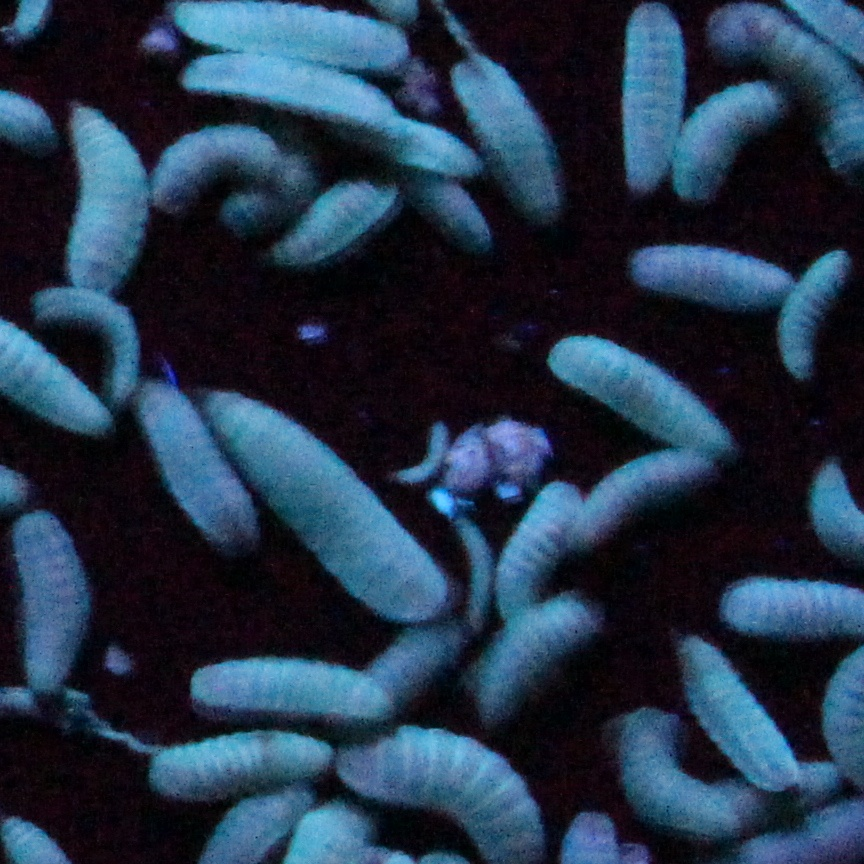larve: (182, 370, 444, 626), (542, 333, 735, 464), (122, 371, 253, 555), (450, 31, 575, 222), (672, 630, 801, 802), (177, 46, 413, 135), (606, 710, 748, 842), (6, 510, 97, 697), (182, 650, 402, 722), (64, 100, 144, 297), (470, 591, 590, 720), (262, 155, 406, 260), (672, 80, 786, 204), (573, 446, 715, 544), (31, 279, 144, 400), (139, 726, 330, 795), (490, 484, 590, 615), (615, 2, 681, 182), (622, 235, 793, 304), (148, 119, 279, 208), (768, 248, 855, 380), (217, 142, 324, 239), (364, 106, 481, 191), (401, 168, 501, 255)
